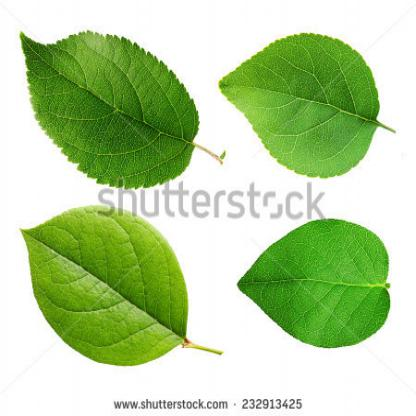apple leaf: (19, 21, 231, 201), (13, 211, 223, 389), (212, 23, 415, 186)
